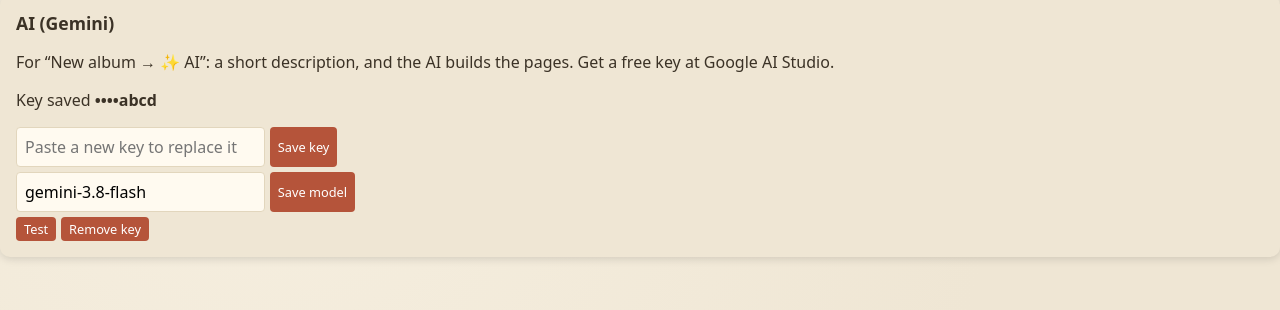
Test: Thử shows the result
Click the button "Test": [36, 229] box [16, 217, 56, 241]
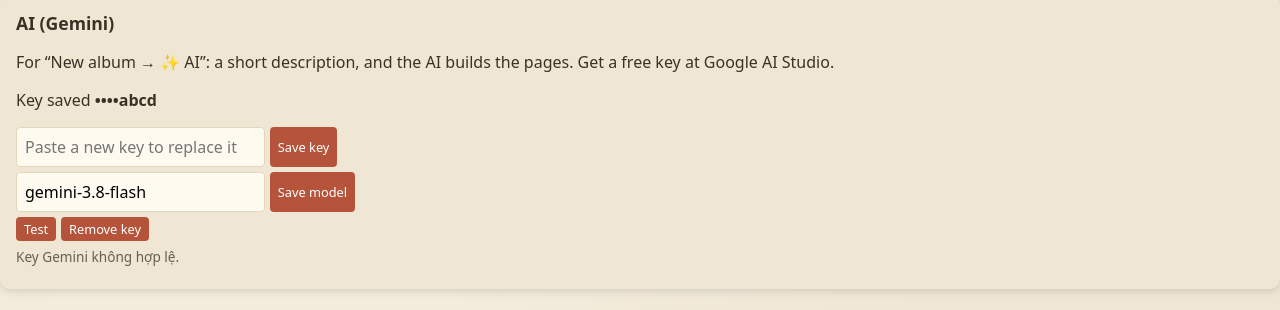
Expected: the text "Key Gemini không hợp lệ." is shown, [16, 247, 179, 266]
